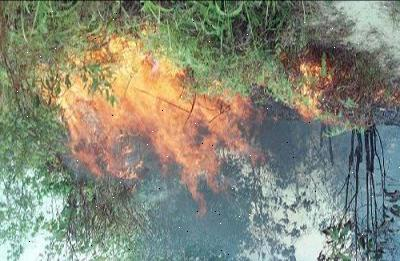fire: (36, 32, 262, 218), (288, 45, 361, 124)
